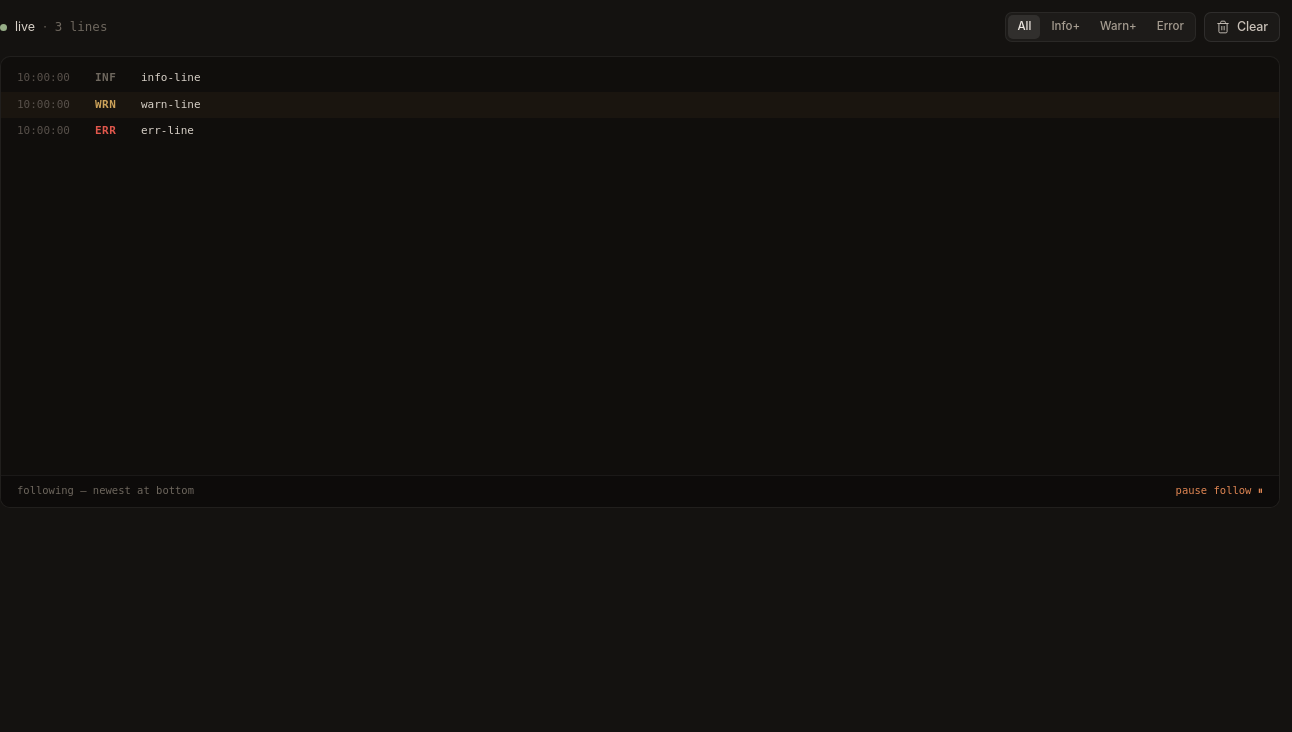
Test: LogsTab › filters by level (Error+ hides INFO/WARN)
The image size is (1292, 732).
Click the tab "Error".
click(1170, 27)  # box [1148,15,1193,39]
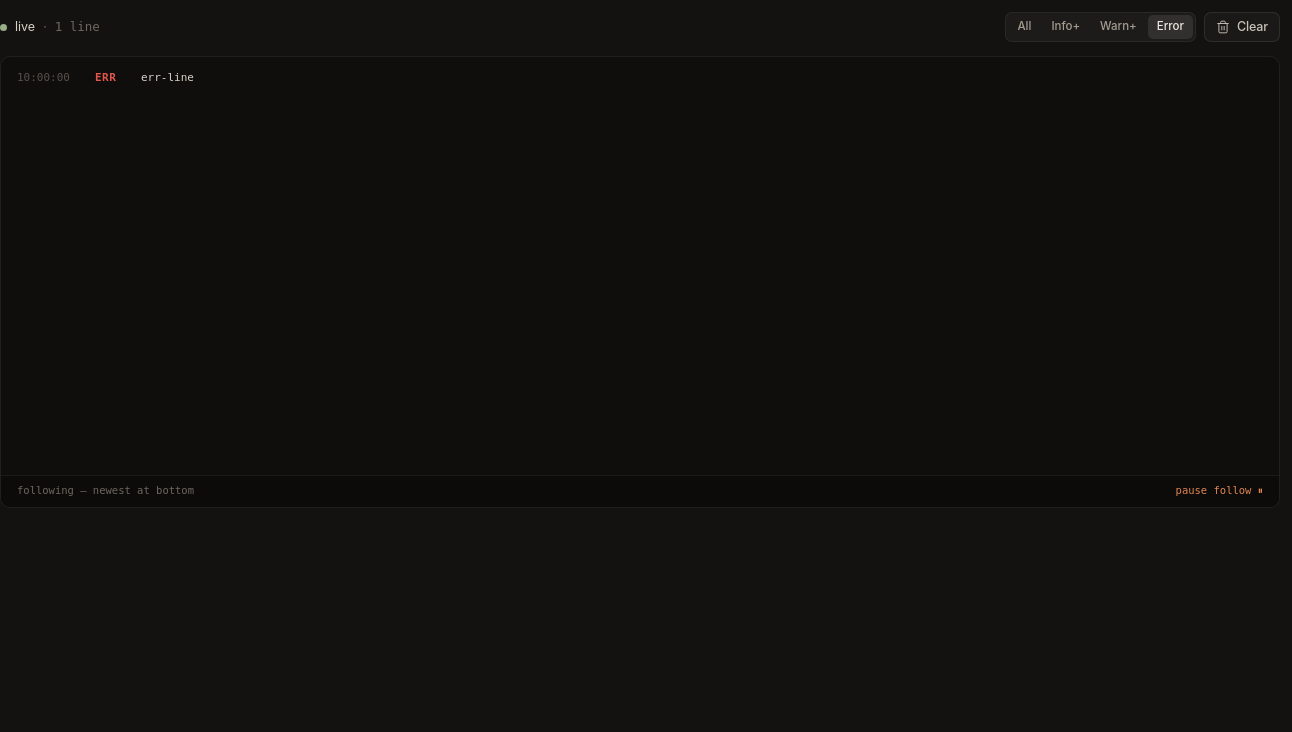
Check: the text "err-line" is shown, box [141,71,194,84]
Check: the text "info-line" is gone
Check: the text "warn-line" is gone
